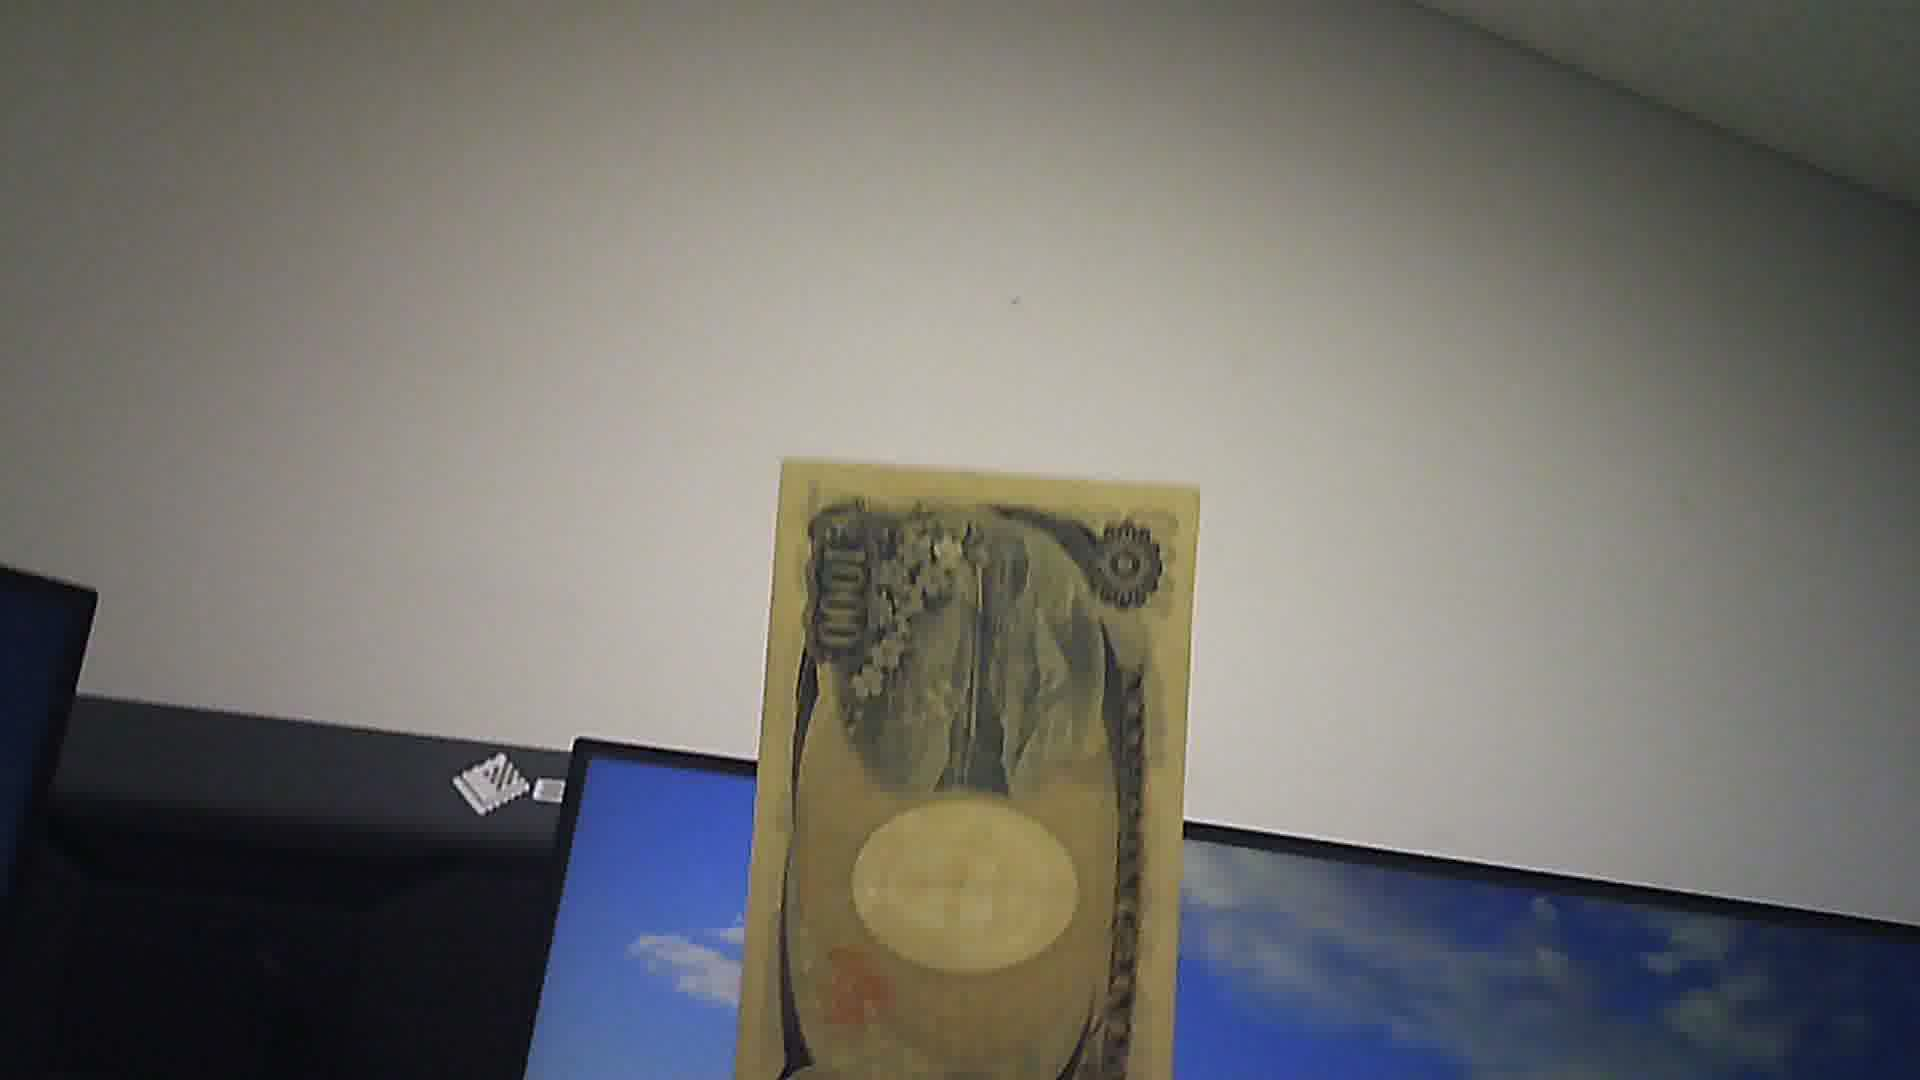1,000 Yen: (737, 442, 1213, 1079)
